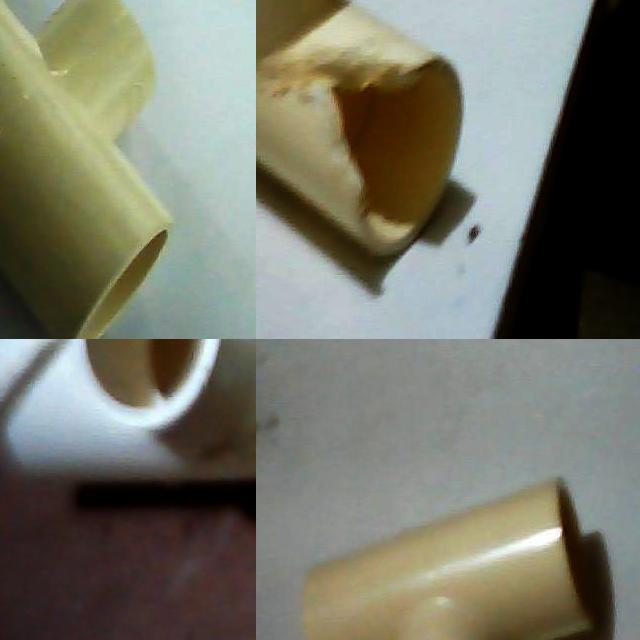Defective: (256, 34, 420, 235), (329, 140, 403, 230), (278, 66, 413, 114)
T Joint: (256, 0, 464, 296), (303, 480, 593, 640)
